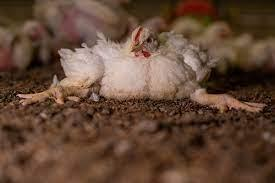AbNormal: (17, 24, 267, 115)
